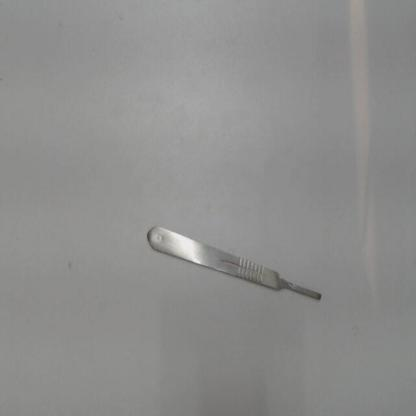No.4 BP Handle: (142, 211, 337, 318)
